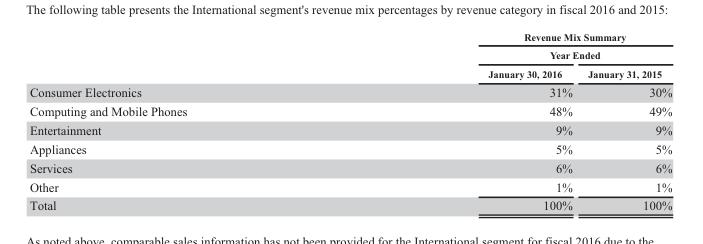table: (28, 29, 671, 213)
table column: (28, 29, 336, 213), (336, 29, 579, 213), (579, 29, 671, 213)
table column header: (28, 29, 671, 81)
table row: (28, 29, 671, 64), (28, 81, 671, 100), (28, 100, 671, 119), (28, 119, 671, 138), (28, 138, 671, 157), (28, 157, 671, 176), (28, 176, 671, 195), (28, 195, 671, 213), (28, 64, 671, 81)
table spanning cell: (336, 29, 671, 64)
